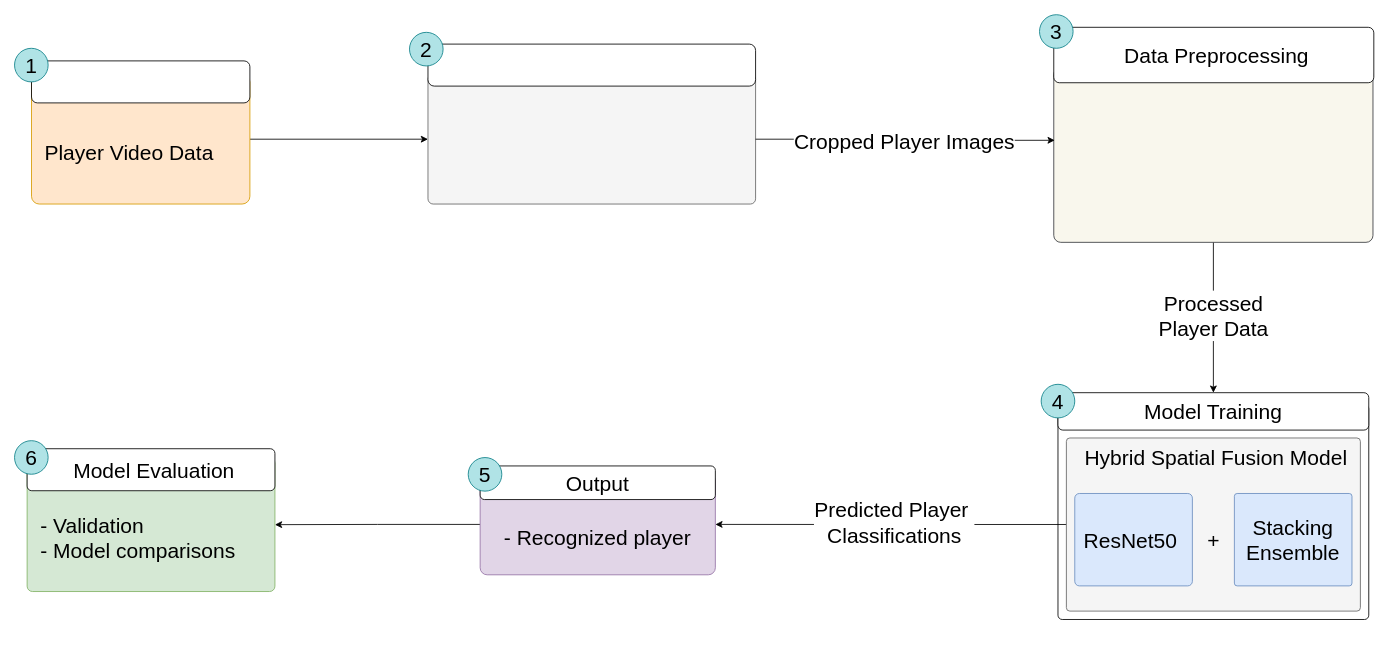
Image size: 1389x665. Some labels were removed from this diagram. Here are the shapes that lost their labels. From the top down, the centre of each, then its label:
At (x=140, y=81): "Data Acquisition".
At (x=591, y=64): "Player Detection".
At (x=591, y=139): "YOLOv3 Detect the bounding boxes of the players from the largest vertical boxes".
At (x=1213, y=154): "- CLAHE (Image Enhancement) - Resize to 224×224×3 - Normalization".
